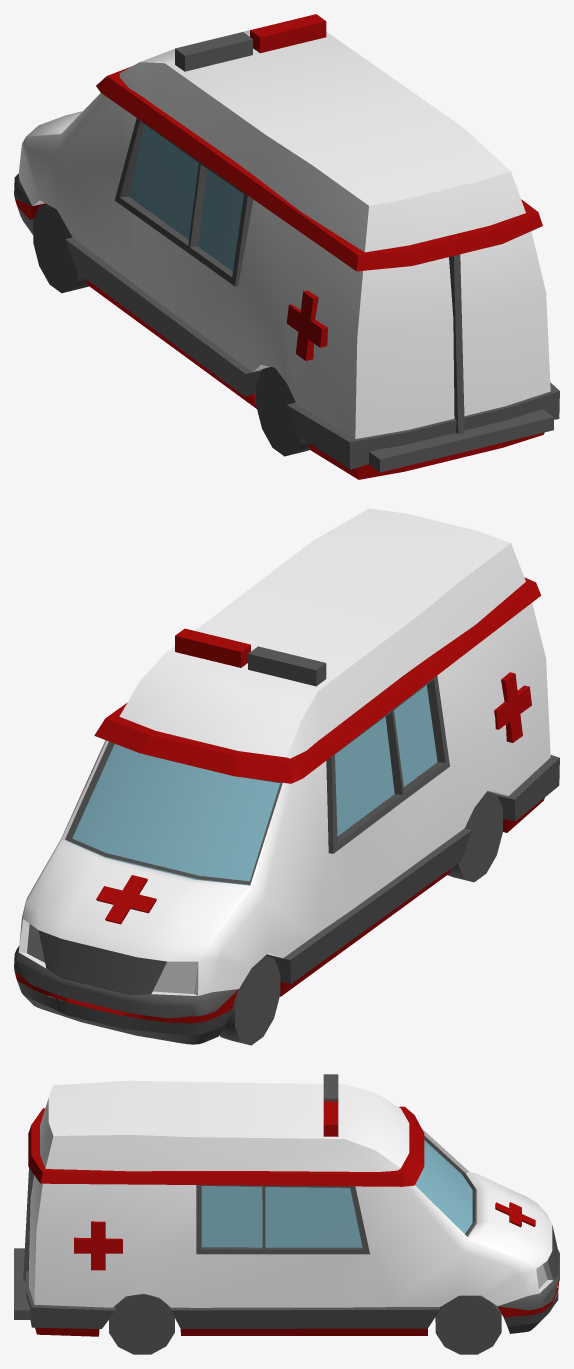
File: car26.glb
3 renders of one model, top to bottom at view 1: azimuth 30°, elevation 25°; view 2: azimuth 150°, elevation 25°; view 3: azimuth 270°, elevation 25°, orthographic. The views are drawn at different scales.
Visible parts, largest first — view 1: JHC_Ke01_, JHC_Ke02_, JHC_Ke03_, JHC_Ke04_, JHC_Glass_, JHC_Lun_; view 2: JHC_Ke01_, JHC_Glass_, JHC_Ke02_, JHC_Ke04_, JHC_Ke03_, JHC_Lun_, JHC_Light_; view 3: JHC_Ke01_, JHC_Ke02_, JHC_Glass_, JHC_Ke03_, JHC_Lun_, JHC_Ke04_.
Part boxes in pixels (left/top/right/bottom): JHC_Ke01_: left=18, top=30, right=550, bottom=438; JHC_Ke02_: left=14, top=14, right=544, bottom=479; JHC_Ke03_: left=14, top=32, right=559, bottom=469; JHC_Ke04_: left=16, top=118, right=553, bottom=472; JHC_Glass_: left=129, top=124, right=243, bottom=271; JHC_Lun_: left=33, top=204, right=310, bottom=456; JHC_Ke01_: left=18, top=508, right=550, bottom=995; JHC_Glass_: left=66, top=685, right=437, bottom=885; JHC_Ke02_: left=14, top=577, right=544, bottom=1023; JHC_Ke04_: left=16, top=676, right=449, bottom=1044; JHC_Ke03_: left=14, top=646, right=559, bottom=1018; JHC_Lun_: left=44, top=792, right=503, bottom=1045; JHC_Light_: left=27, top=924, right=197, bottom=993; JHC_Ke01_: left=29, top=1080, right=553, bottom=1307; JHC_Ke02_: left=28, top=1101, right=559, bottom=1336; JHC_Glass_: left=201, top=1140, right=472, bottom=1247; JHC_Ke03_: left=25, top=1074, right=559, bottom=1328; JHC_Lun_: left=109, top=1293, right=501, bottom=1354; JHC_Ke04_: left=14, top=1136, right=558, bottom=1333.
Bounding box in the file's own units: 2.05 × 2.56 × 5.81.
